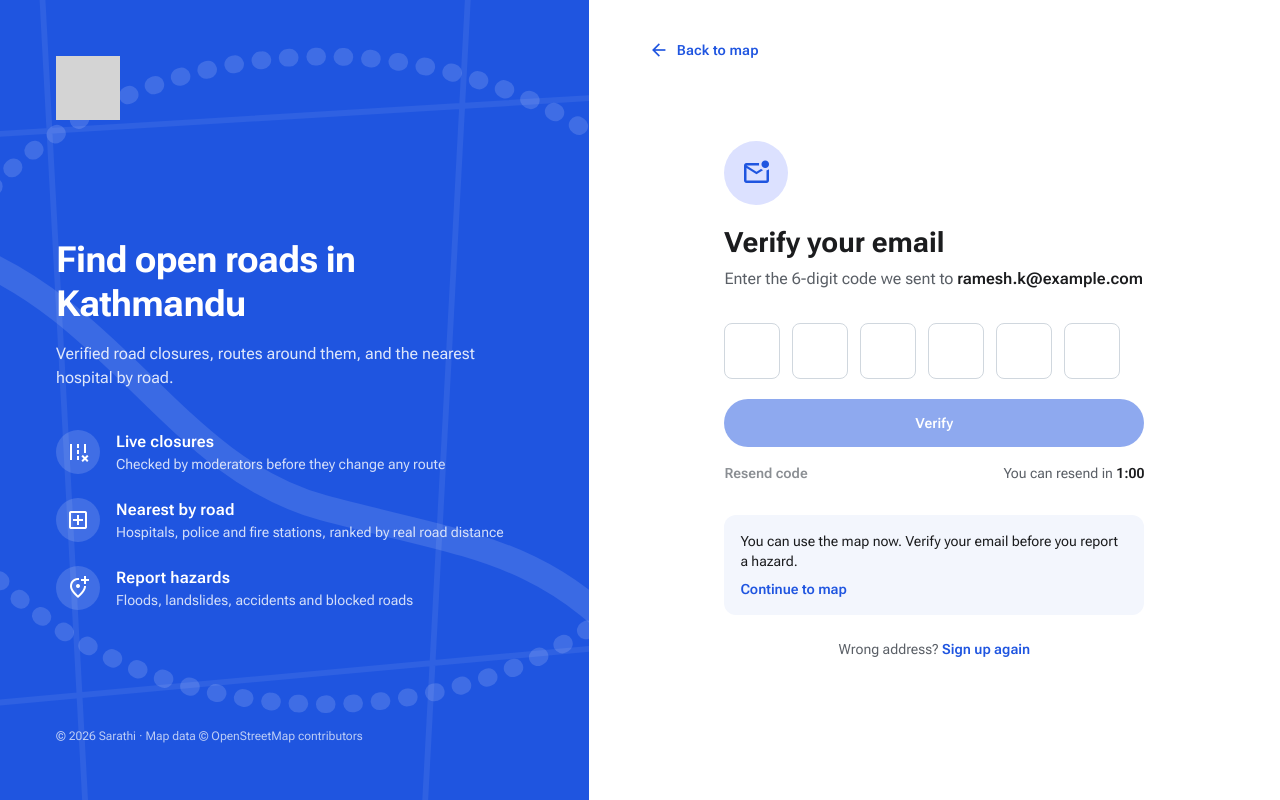
verify email › explains a wrong code and clears the boxes
This screenshot has width=1280, height=800.
Click the field named "Digit 1 of 6" at (752, 351), box [724,323,780,379]
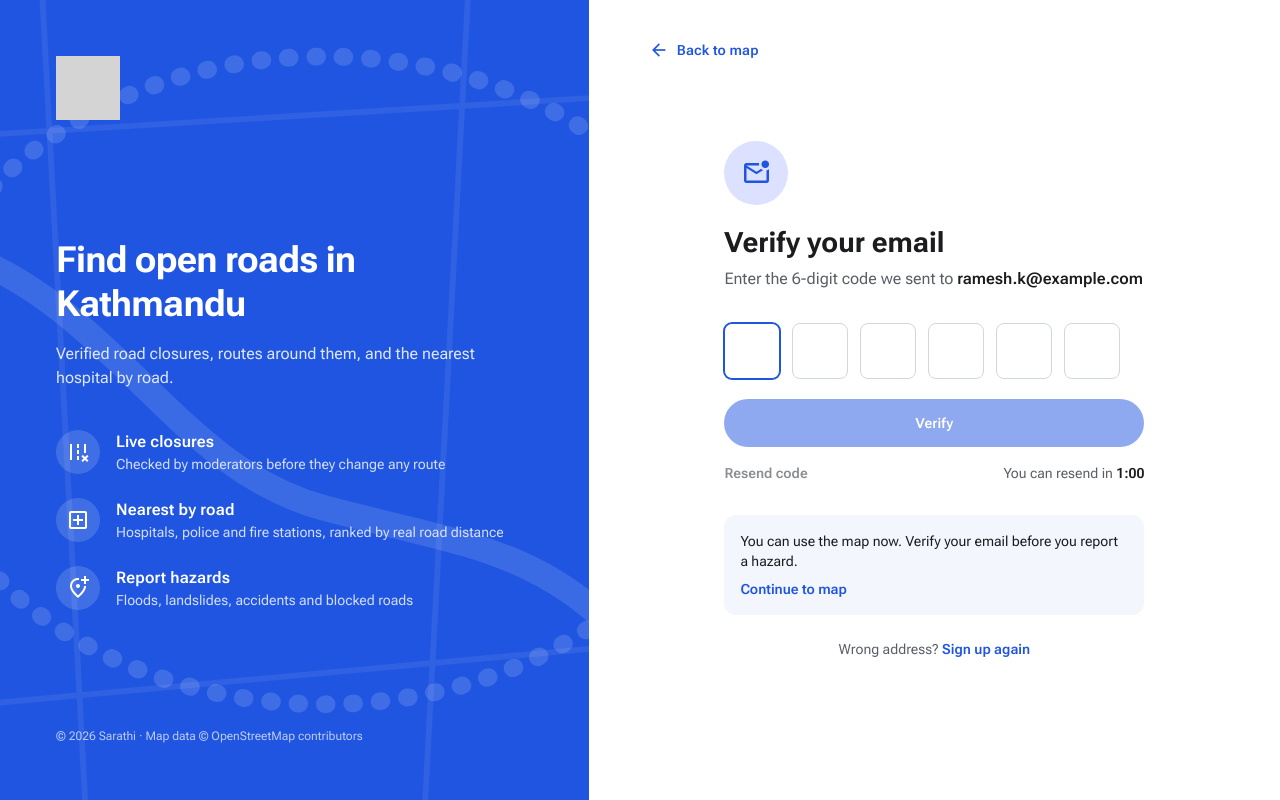
Type keys "000000"
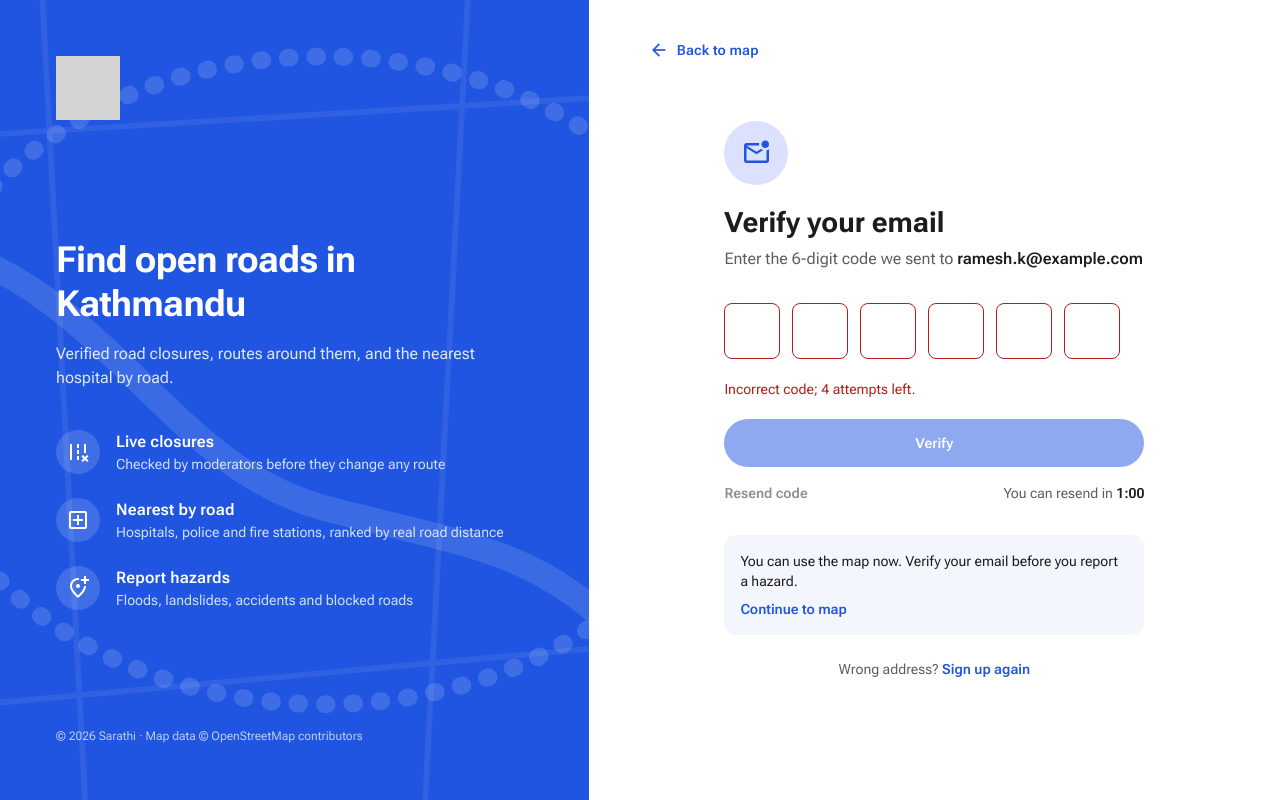
Expected: the field named "Digit 1 of 6" is empty, [724,303,780,359]
Expected: the text "Incorrect code; 4 attempts left." is shown, [724,381,915,397]
